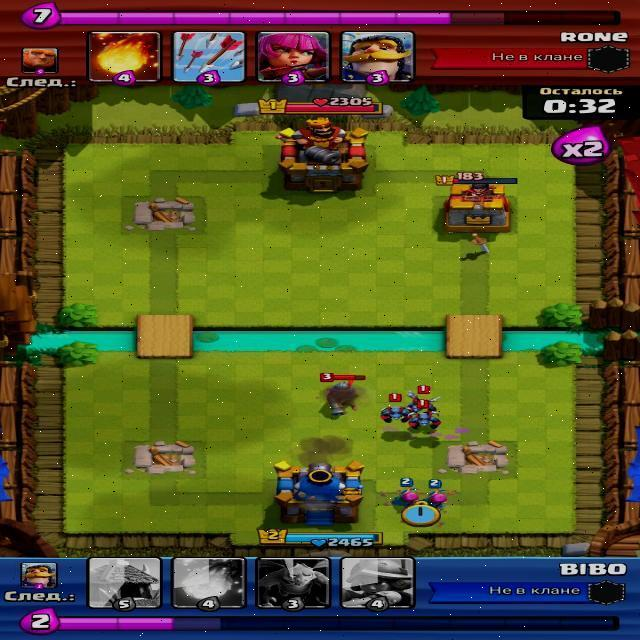EKingTower: (271, 109, 374, 192)
EMusk: (317, 376, 366, 420)
EnemyPrincessTower: (447, 190, 515, 234)
OArcher: (425, 490, 453, 514), (399, 484, 420, 512)
OwnKingTower: (267, 463, 379, 544)
TowerDown: (119, 192, 207, 237), (119, 442, 206, 480), (433, 444, 520, 477)
eminion: (407, 395, 441, 417), (413, 414, 443, 430), (388, 408, 403, 424)
